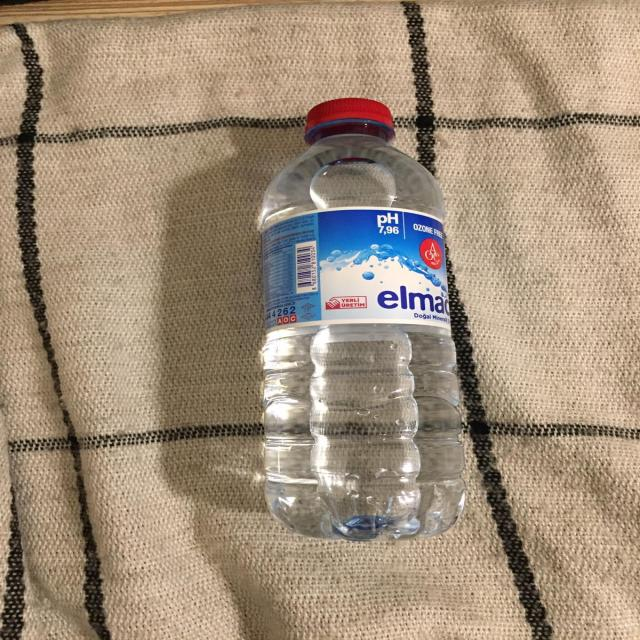bottle: (260, 98, 467, 541)
